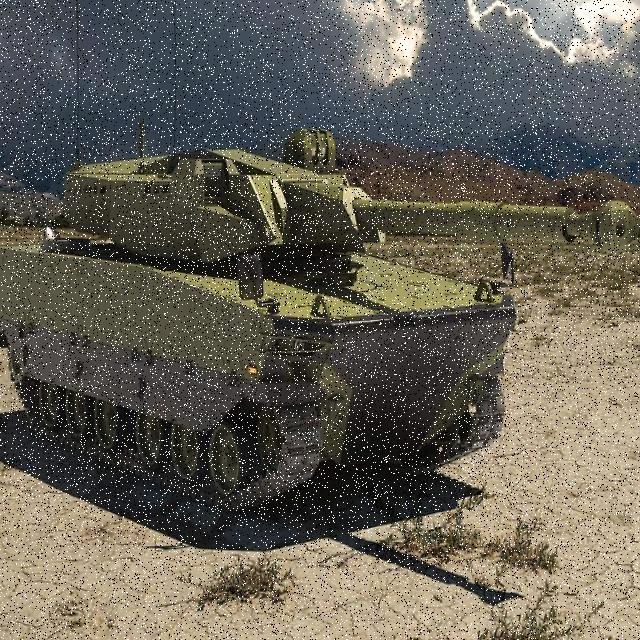MIL_MBT: (11, 123, 529, 517)
